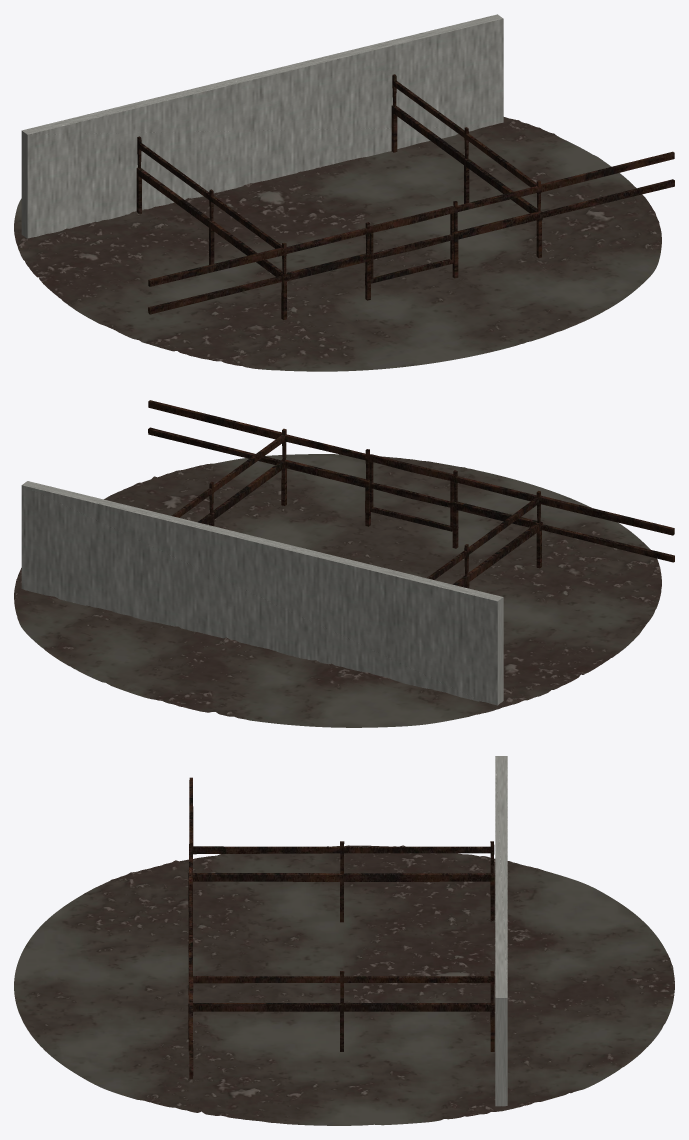
The model's file is newenv2.glb.
The picture shows the model from 3 angles, top to bottom: view 1: azimuth 30°, elevation 25°; view 2: azimuth 150°, elevation 25°; view 3: azimuth 270°, elevation 25°; orthographic projection. The views are drawn at different scales.
Parts seen in each view (by area): view 1: Ground, Wall, Fence; view 2: Ground, Wall, Fence; view 3: Ground, Fence, Wall.
Part boxes in pixels (x1,y1,x2,y2): Ground: [14, 117, 661, 371]; Wall: [21, 14, 503, 238]; Fence: [136, 74, 674, 319]; Ground: [14, 454, 661, 727]; Wall: [21, 481, 503, 705]; Fence: [148, 400, 674, 588]; Ground: [14, 845, 674, 1125]; Fence: [188, 777, 494, 1079]; Wall: [495, 756, 507, 1106].
Bounding box in the file's own units: 6.53 × 1.24 × 6.53.
Materials: 3 (3 with a texture image).
